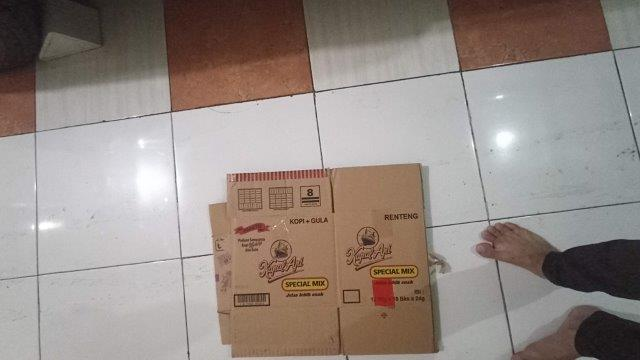kardus: (209, 165, 434, 356)
